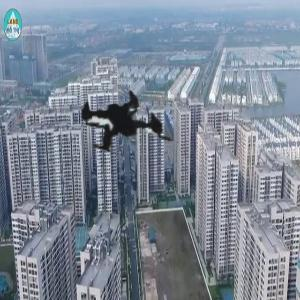drone: (5, 33, 245, 273)
